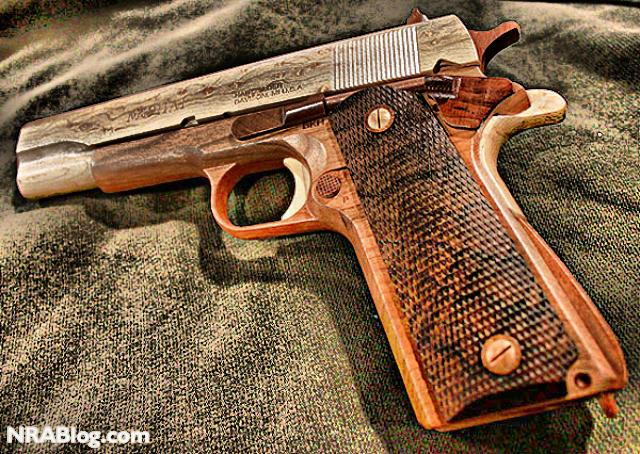pistol: (12, 7, 626, 418)
